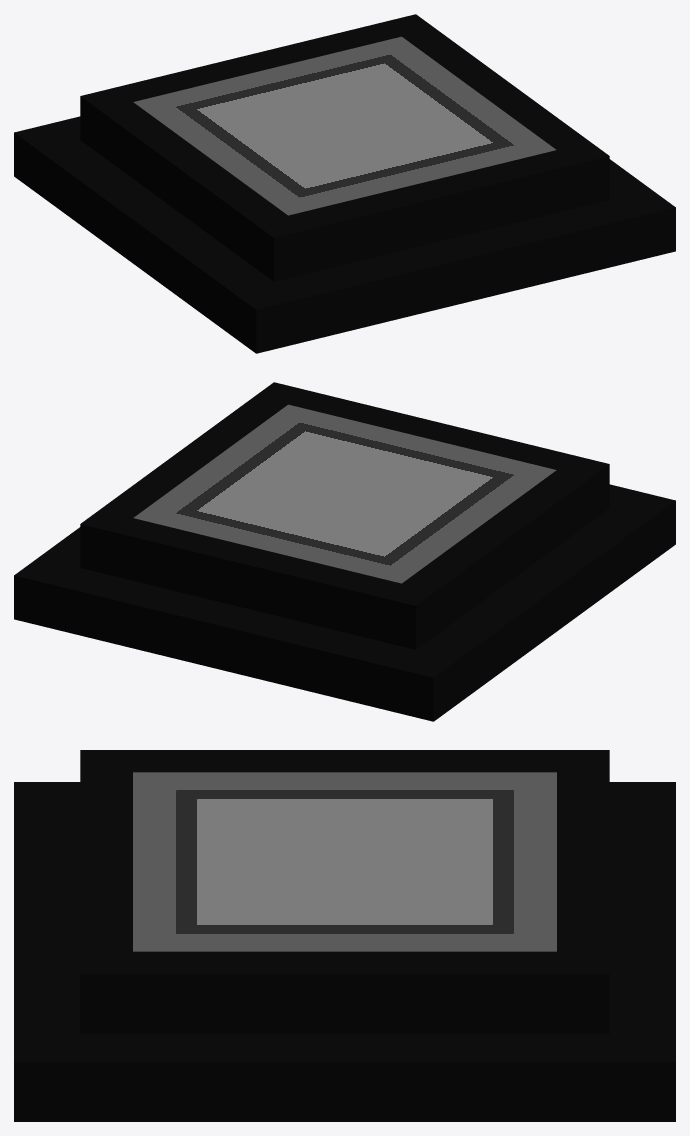
Rendered from Roof1.gltf.
3 views of the same model, one above another, from view 1: azimuth 30°, elevation 25°; view 2: azimuth 150°, elevation 25°; view 3: azimuth 270°, elevation 25° (orthographic). The views are drawn at different scales.
Visible parts, largest first — view 1: Roof; view 2: Roof; view 3: Roof.
Part boxes in pixels (x1,y1,x2,y2): Roof: [14, 14, 675, 353]; Roof: [14, 382, 675, 721]; Roof: [14, 750, 675, 1121].
Bounding box in the file's own units: 2 × 0.4 × 2.
Materials: 1 (1 with a texture image).
